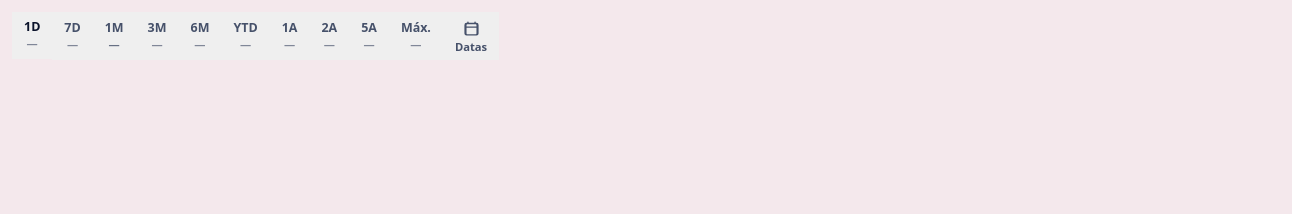
ChartPeriodSelector › blocks a custom period whose start date is after its end date
The image size is (1292, 214).
Click the button with aria-label "Datas — selecionar período personalizado".
click(471, 36)  # box top-left (443, 12), bottom-right (499, 60)
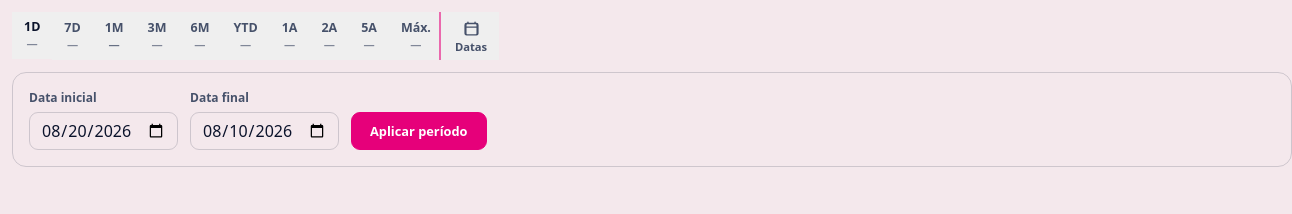
Click the button "Aplicar período".
click(419, 131)  # box top-left (351, 112), bottom-right (486, 150)
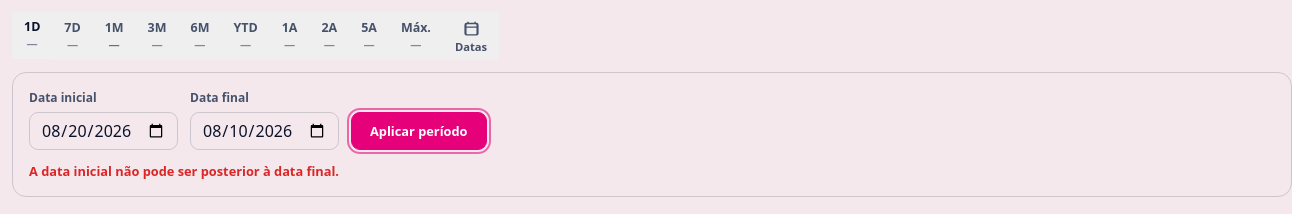
Result: the text "A data inicial não pode ser posterior à data final." is shown at top-left (29, 162), bottom-right (339, 180)
